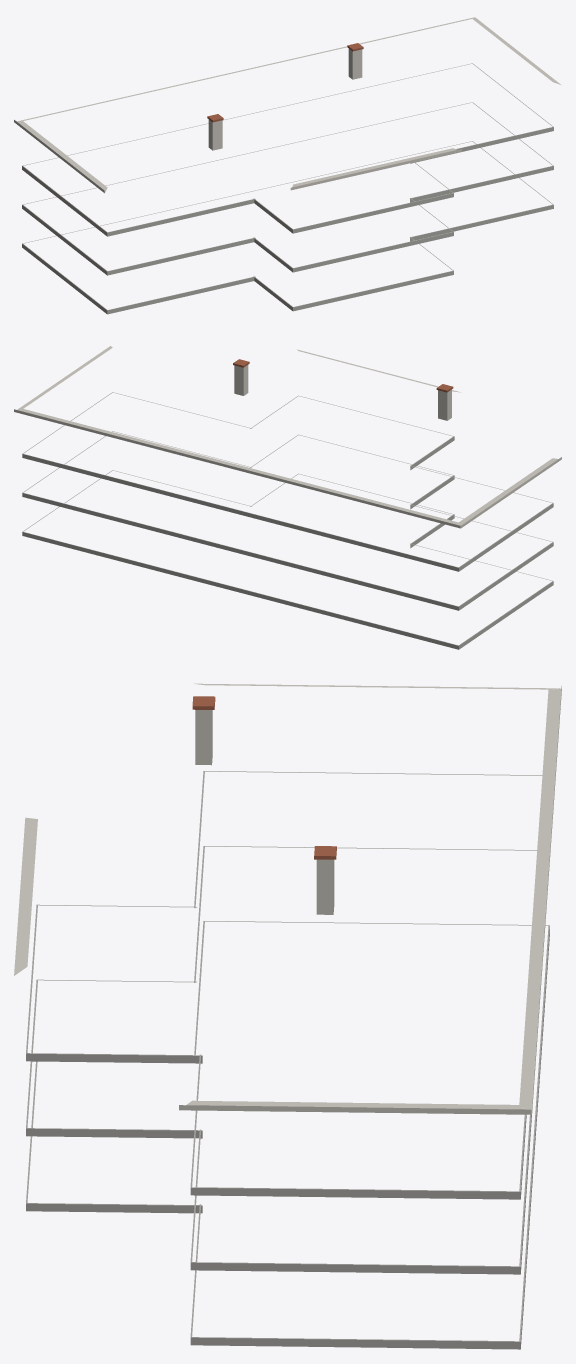
3 views of the same model, one above another, from view 1: azimuth 30°, elevation 25°; view 2: azimuth 150°, elevation 25°; view 3: azimuth 270°, elevation 25° (orthographic). The views are drawn at different scales.
Parts seen in each view (by area): view 1: detail; view 2: detail; view 3: detail.
Part boxes in pixels (bbox=[...]): detail: bbox=[14, 17, 560, 314]; detail: bbox=[14, 346, 561, 649]; detail: bbox=[14, 683, 561, 1349].
Size of the model in its own units: 38.8 by 14.29 by 20.84.
